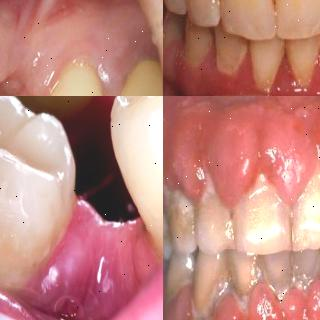Gum Swelling: (163, 141, 320, 205), (186, 47, 320, 96)
calculus: (237, 181, 281, 233), (163, 187, 199, 245), (211, 36, 250, 86), (231, 258, 260, 319), (192, 273, 226, 320), (164, 262, 194, 308), (288, 256, 320, 298), (295, 168, 320, 220), (262, 264, 294, 304), (202, 175, 220, 214), (163, 208, 167, 248)
plaque: (309, 32, 320, 60)
